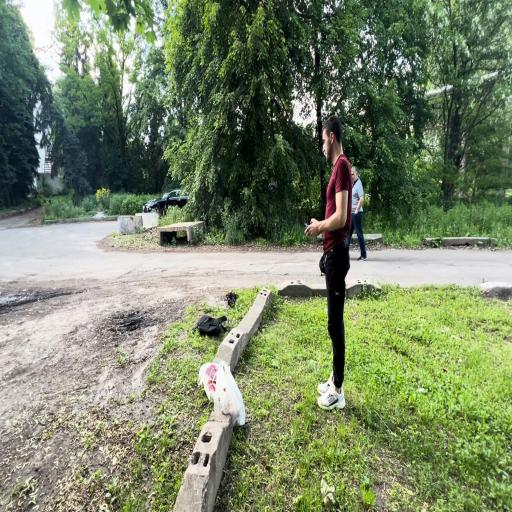drone: (224, 290, 239, 303)
